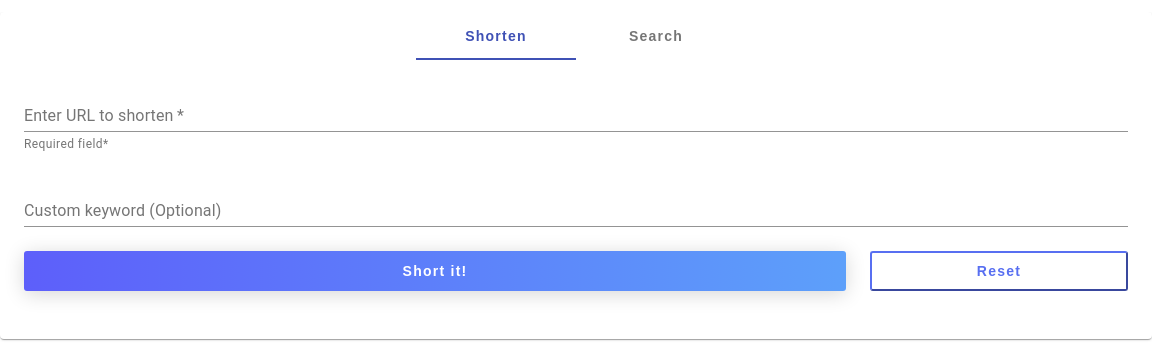
Test: Tabs › show Search tab when clicked
The width and height of the screenshot is (1152, 358).
Click the tab "Search": (656, 36) [576,12,736,60]
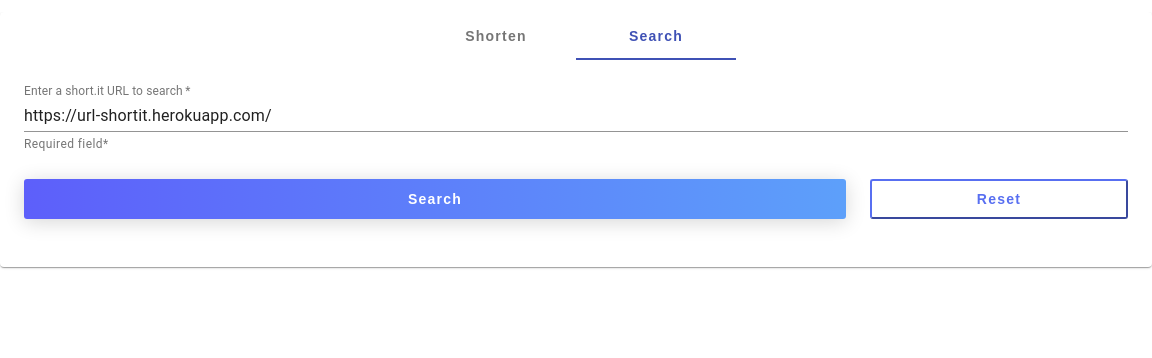
Result: the text "Enter a short.it URL to search" is shown at [24,84,183,98]
